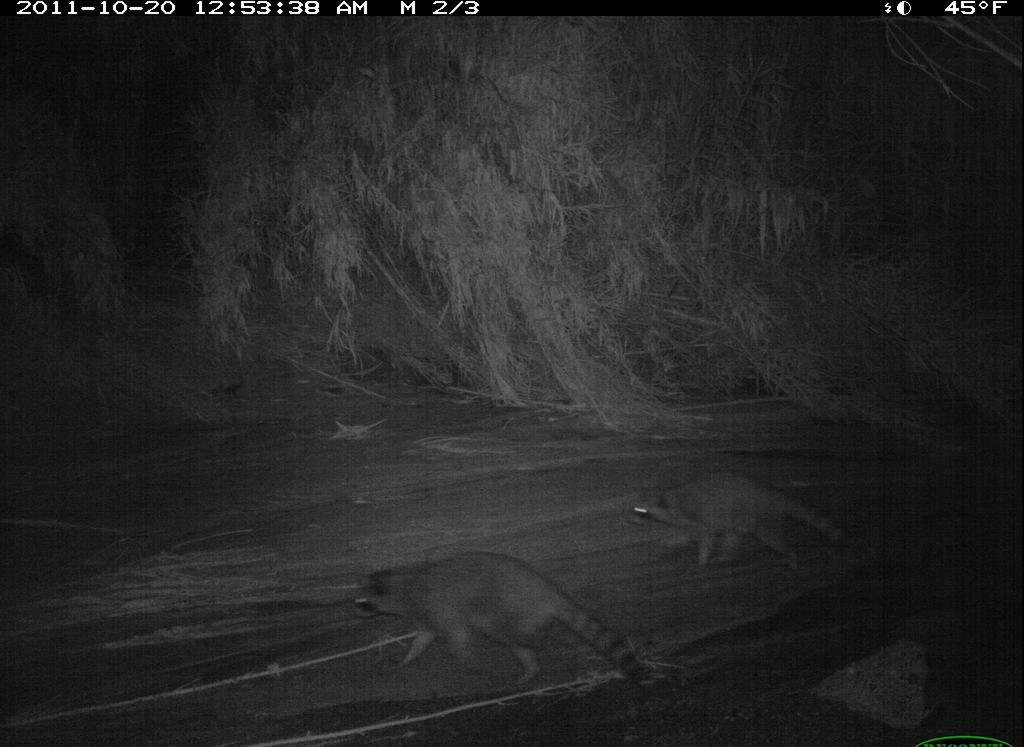raccoon: (341, 545, 665, 699), (626, 472, 863, 579)
